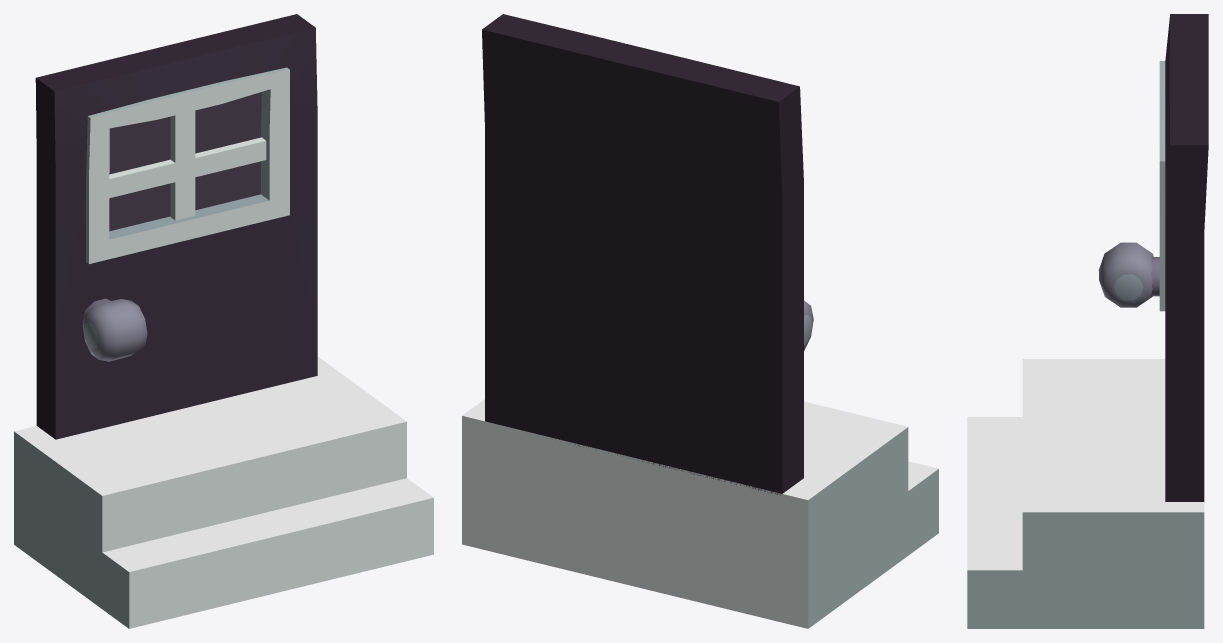
File: Door02_White_Black.glb
The picture shows the model from 3 angles, left to right: view 1: azimuth 30°, elevation 25°; view 2: azimuth 150°, elevation 25°; view 3: azimuth 270°, elevation 25°; orthographic projection. The views are drawn at different scales.
Parts seen in each view (by area): view 1: Door02_White_Black; view 2: Door02_White_Black; view 3: Door02_White_Black.
Part boxes in pixels (left/top/right/bottom): Door02_White_Black: left=14, top=14, right=433, bottom=628; Door02_White_Black: left=462, top=14, right=938, bottom=628; Door02_White_Black: left=967, top=14, right=1208, bottom=628.
Size of the model in its own units: 0.9795 by 1.41 by 0.6527.
Materials: 1 (1 with a texture image).
